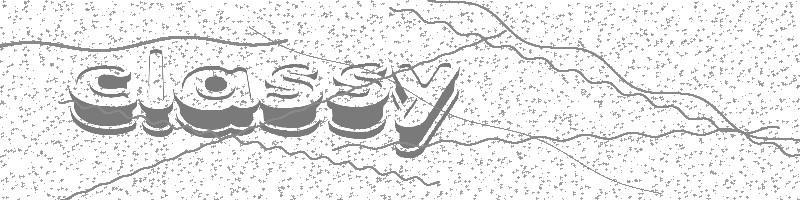a: (173, 63, 259, 139)
c: (67, 63, 138, 136)
l: (139, 48, 174, 137)
s: (326, 62, 389, 140), (260, 63, 324, 138)
y: (390, 61, 461, 160)
